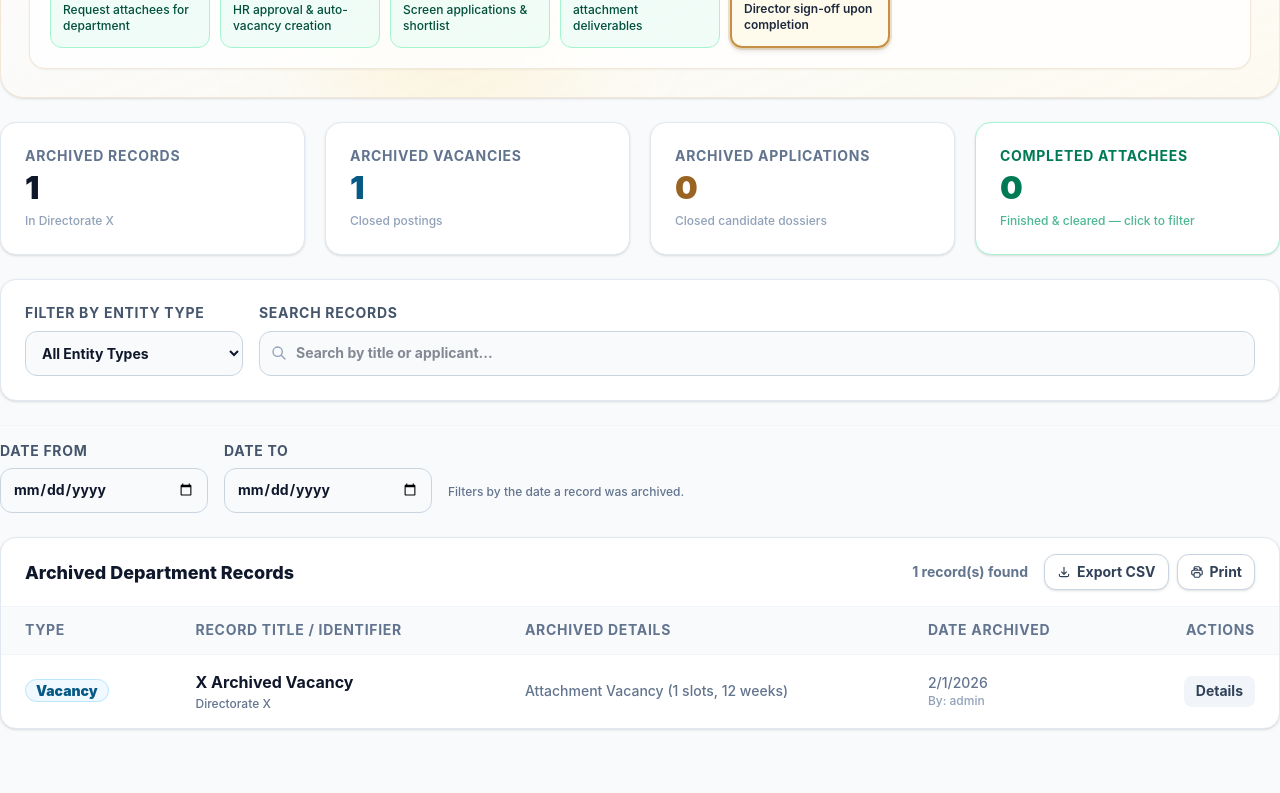
Test: DepartmentArchives › is read-only: no restore or purge controls are rendered
(page scrolled)
Expected: the text "X Archived Vacancy" is shown, [196,672,354,692]
Click the button "Details": (1219, 692) [1184,676,1255,707]
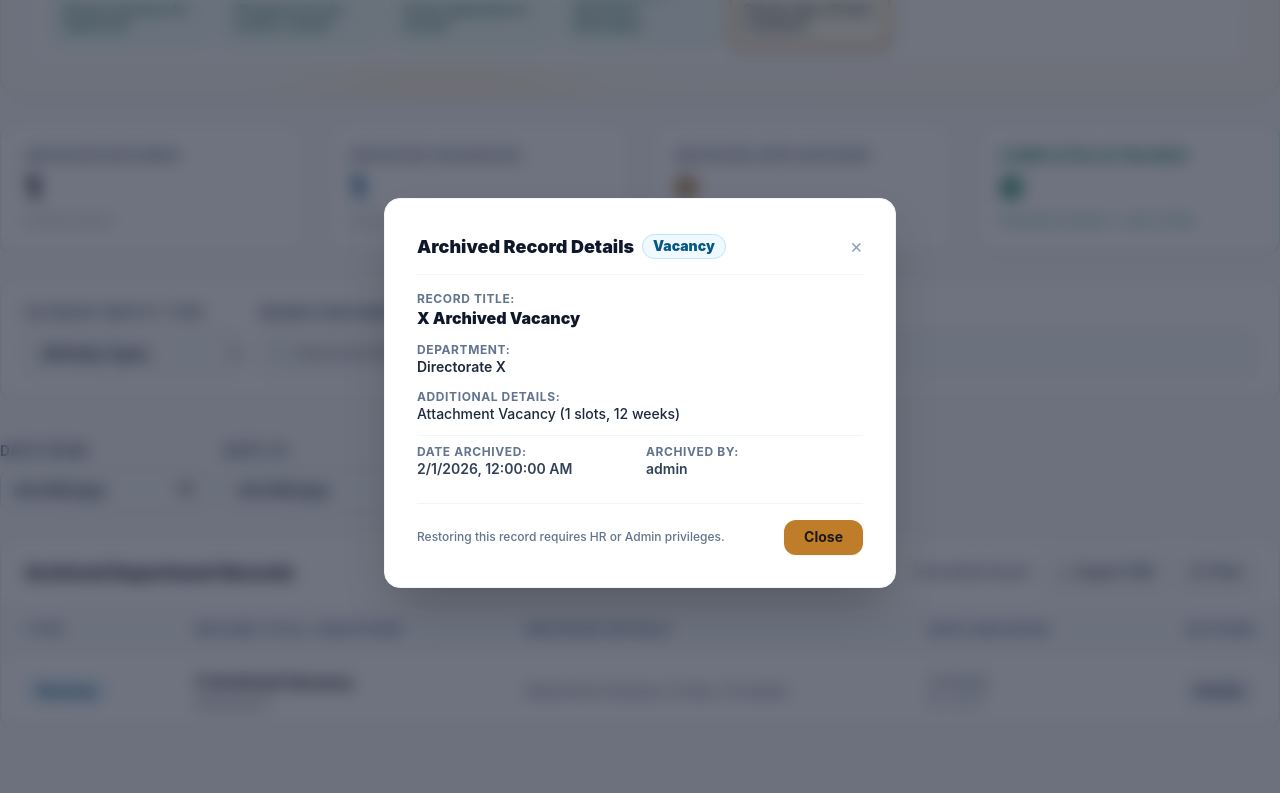
Now the text "Restoring this record requires HR or Admin privileges." is shown, box [417,528,724,546]
